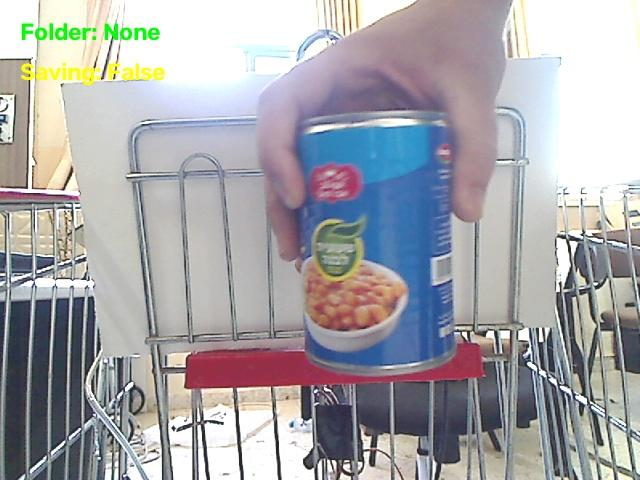can: (299, 112, 455, 374)
